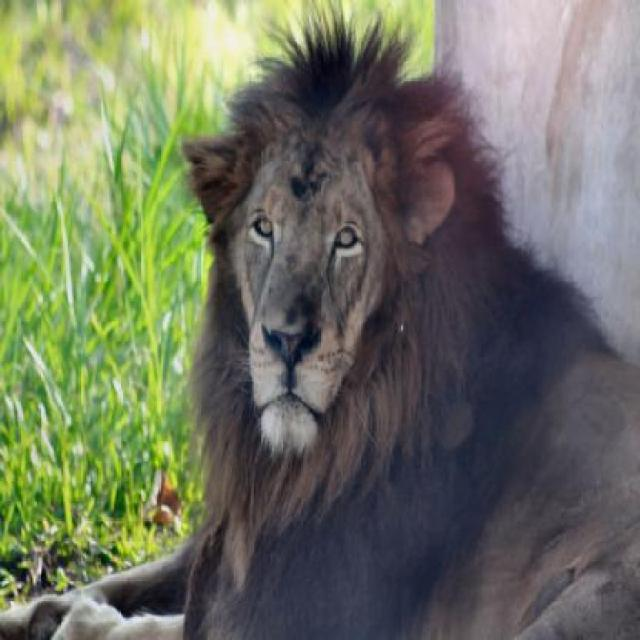Lion: (40, 20, 637, 638)
